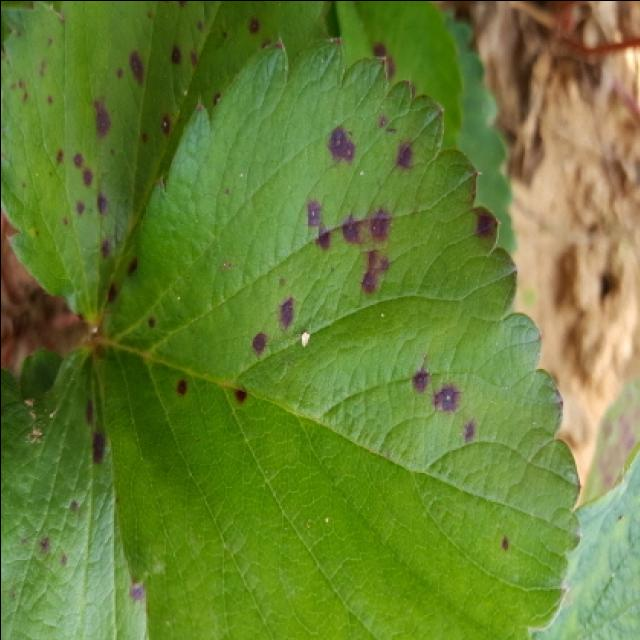Leaf Spot: (90, 35, 583, 640), (0, 2, 333, 336), (0, 347, 148, 640), (331, 2, 464, 149)
